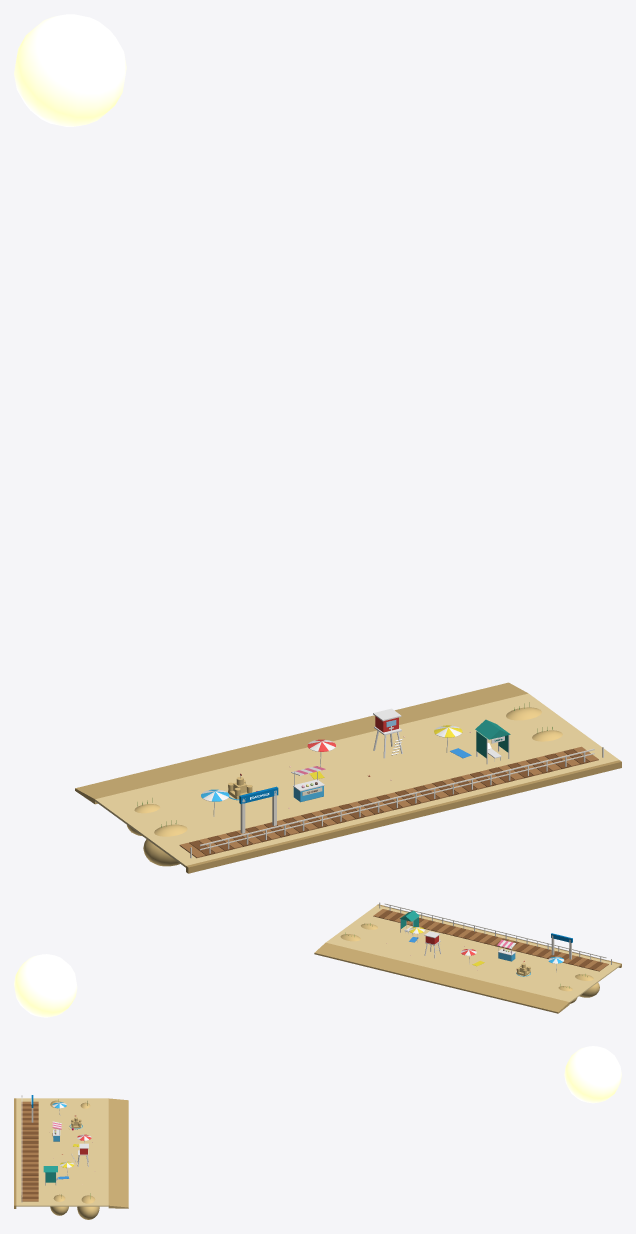
File: interiors_beach.glb
The picture shows the model from 3 angles, top to bottom: view 1: azimuth 30°, elevation 25°; view 2: azimuth 150°, elevation 25°; view 3: azimuth 270°, elevation 25°; orthographic projection. The views are drawn at different scales.
Visible parts, largest first — view 1: InteriorsBeach_static; view 2: InteriorsBeach_static; view 3: InteriorsBeach_static.
Boxes of the visible parts, x1,y1,x2,y2 form: InteriorsBeach_static: (14, 14, 621, 873); InteriorsBeach_static: (14, 902, 621, 1017); InteriorsBeach_static: (14, 1046, 621, 1219).
Bounding box in the file's own units: 51.1 × 34.5 × 105.
